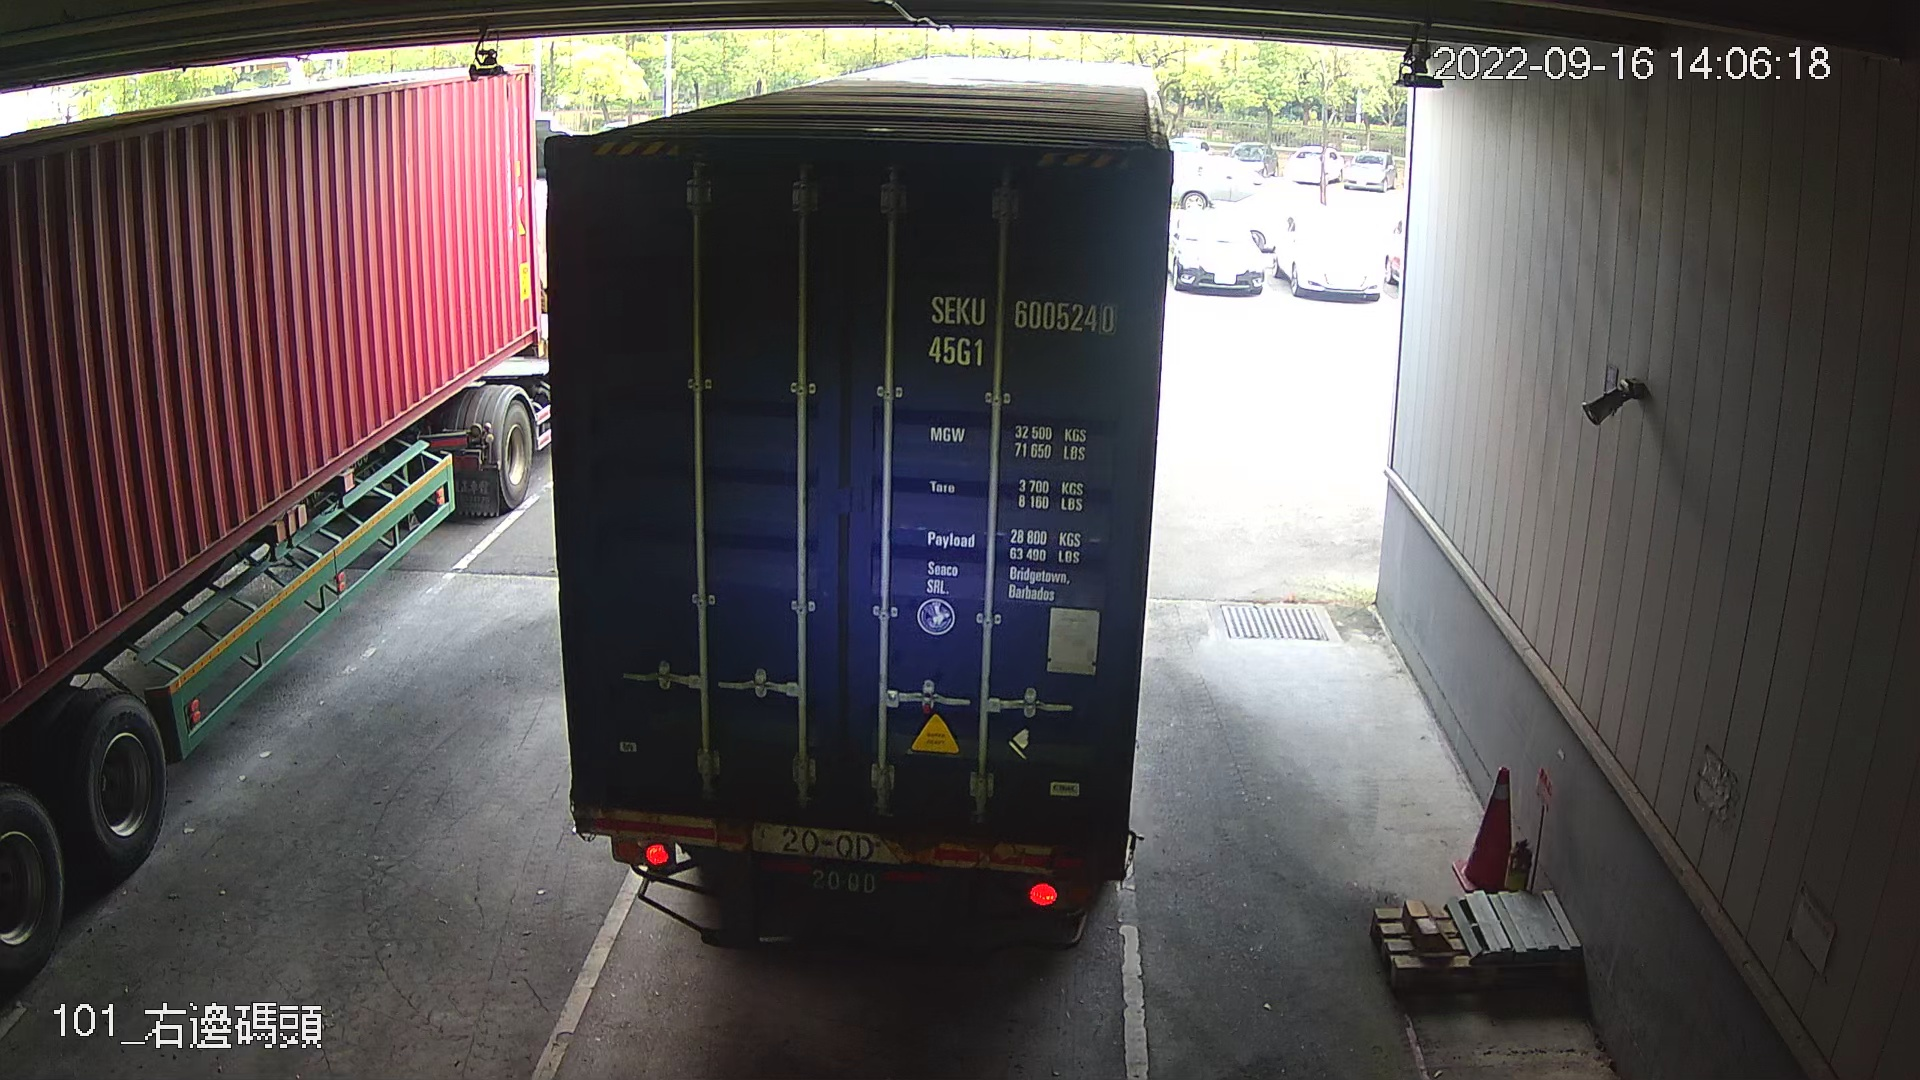container: (916, 289, 1125, 376)
